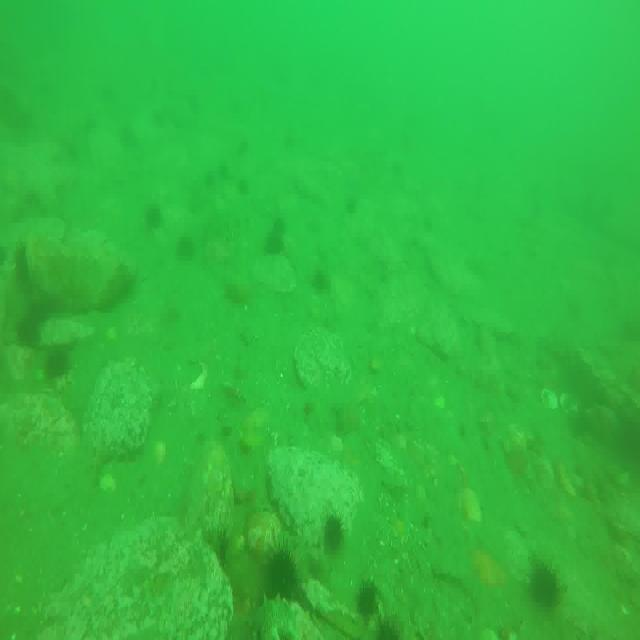echinus: (264, 539, 294, 595), (531, 560, 561, 615), (15, 321, 42, 356), (371, 613, 405, 640), (44, 344, 69, 380), (357, 581, 378, 622), (15, 247, 34, 292), (324, 509, 344, 548), (146, 202, 165, 237), (178, 235, 200, 263), (311, 269, 332, 296), (268, 231, 286, 257)
scallop: (540, 385, 561, 414)
